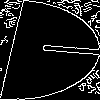L: (25, 25, 100, 59)
